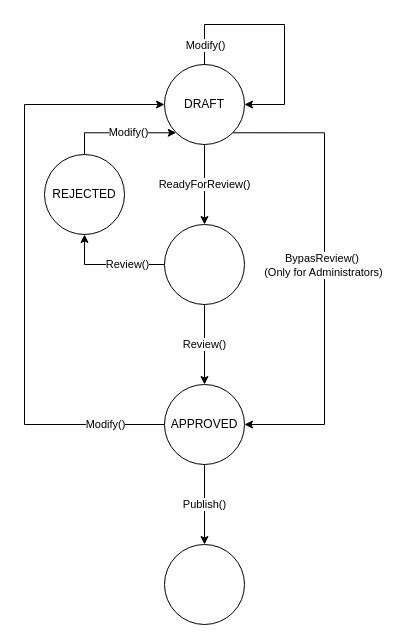
Image size: 400x642. Some labels were removed from this diagram. Here are the shapes that lost their labels. From the top down, the box of each, then its label:
(164, 224, 244, 304): REVIEW
(164, 544, 244, 624): PUBLISHED
